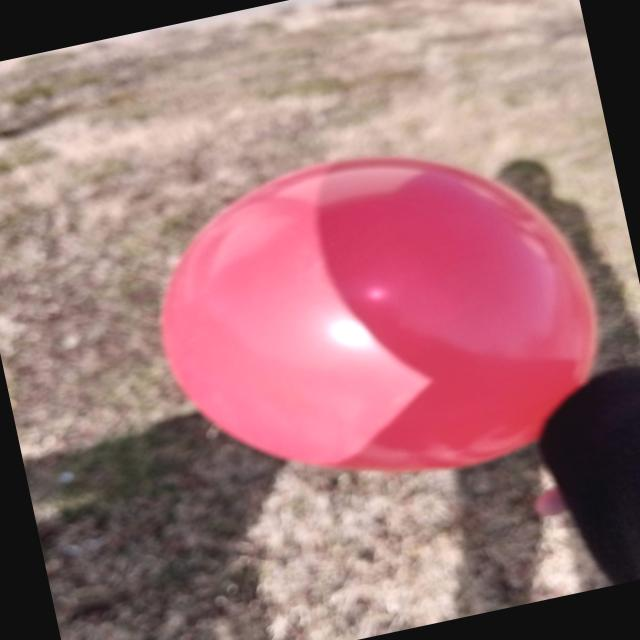balloon: (162, 158, 598, 470)
